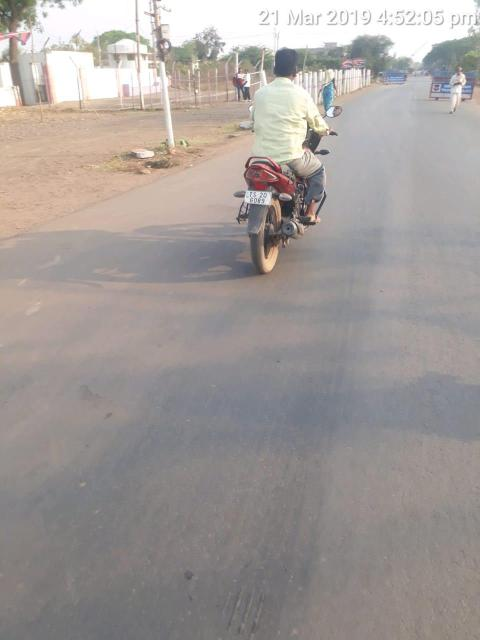motor: (234, 104, 344, 276)
non-helm: (274, 47, 301, 84)
